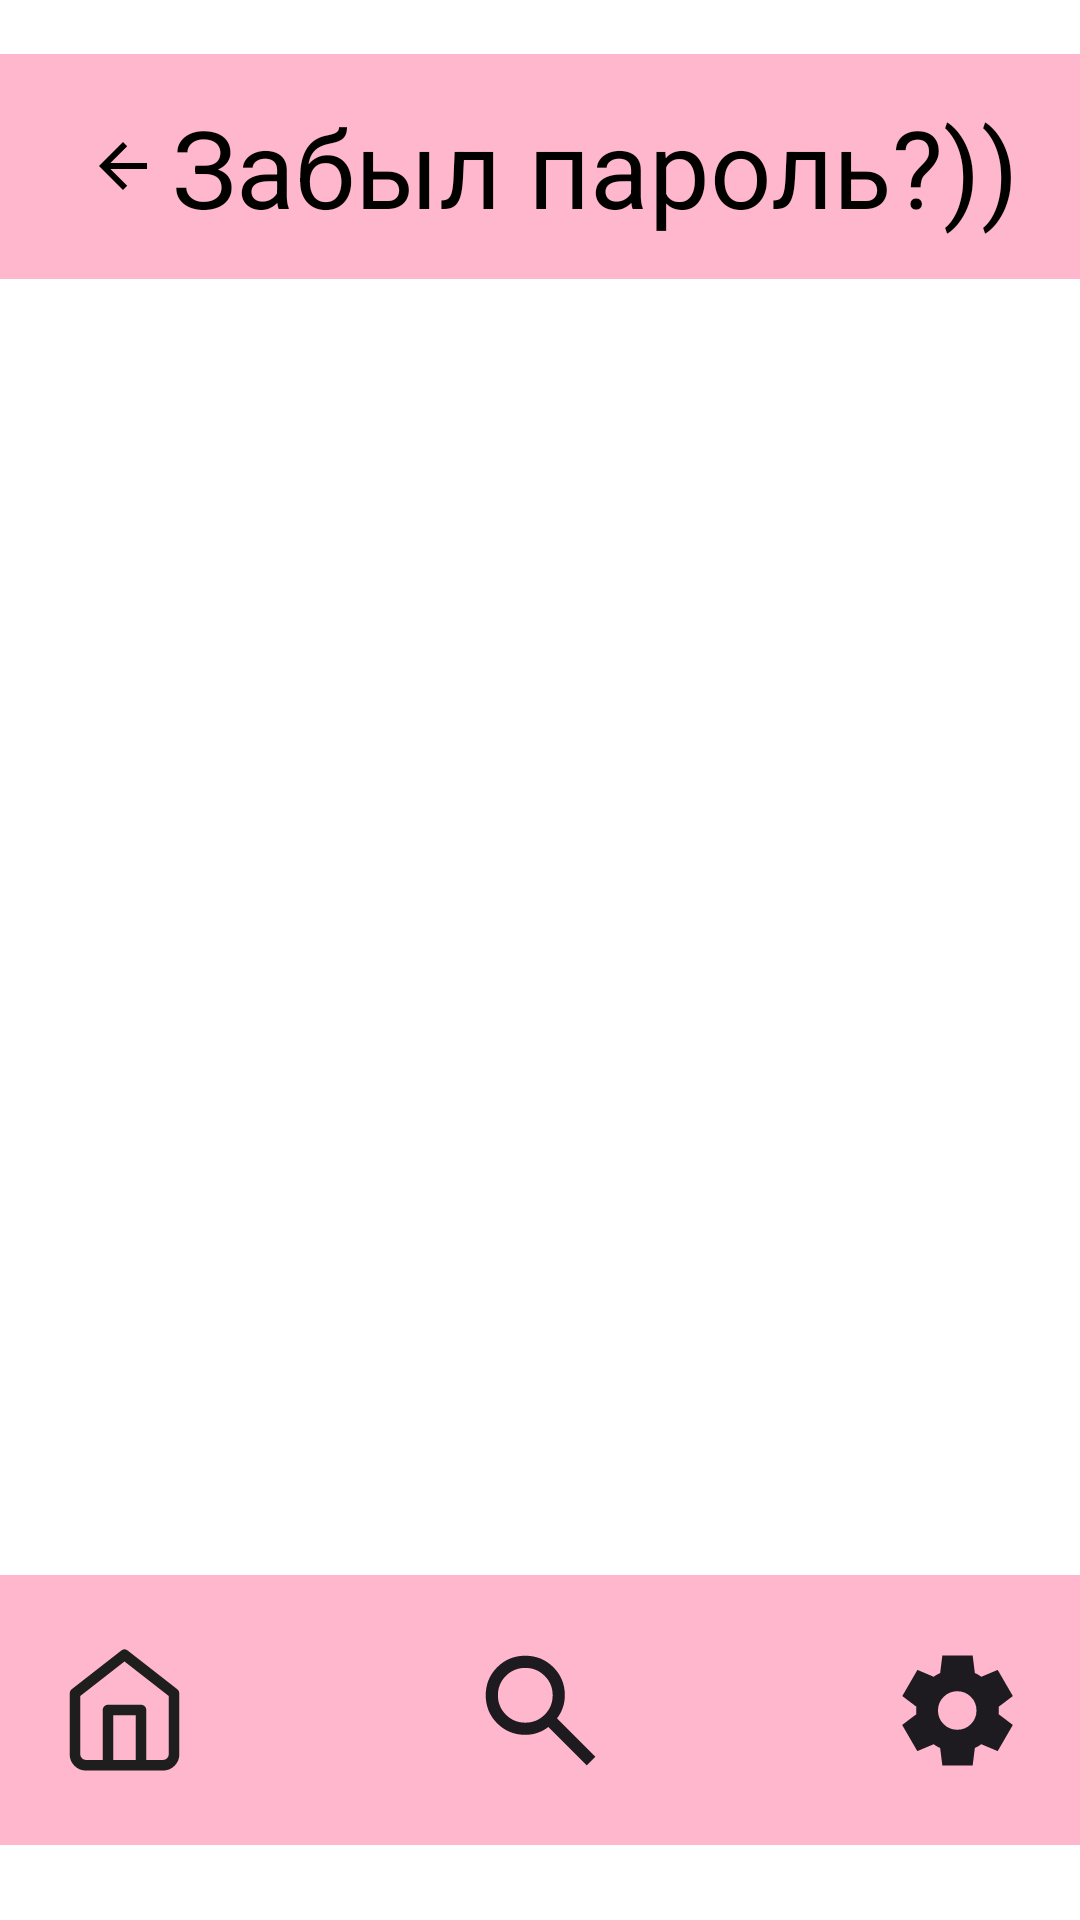

Screen size 1080 × 1920. Icon name, then its center in pixels as point (x, y):
back: point (123, 166)
Home: point (124, 1710)
Search: point (540, 1710)
Settings: point (957, 1710)
